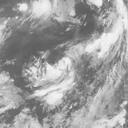cyclone: (29, 57, 80, 106)
